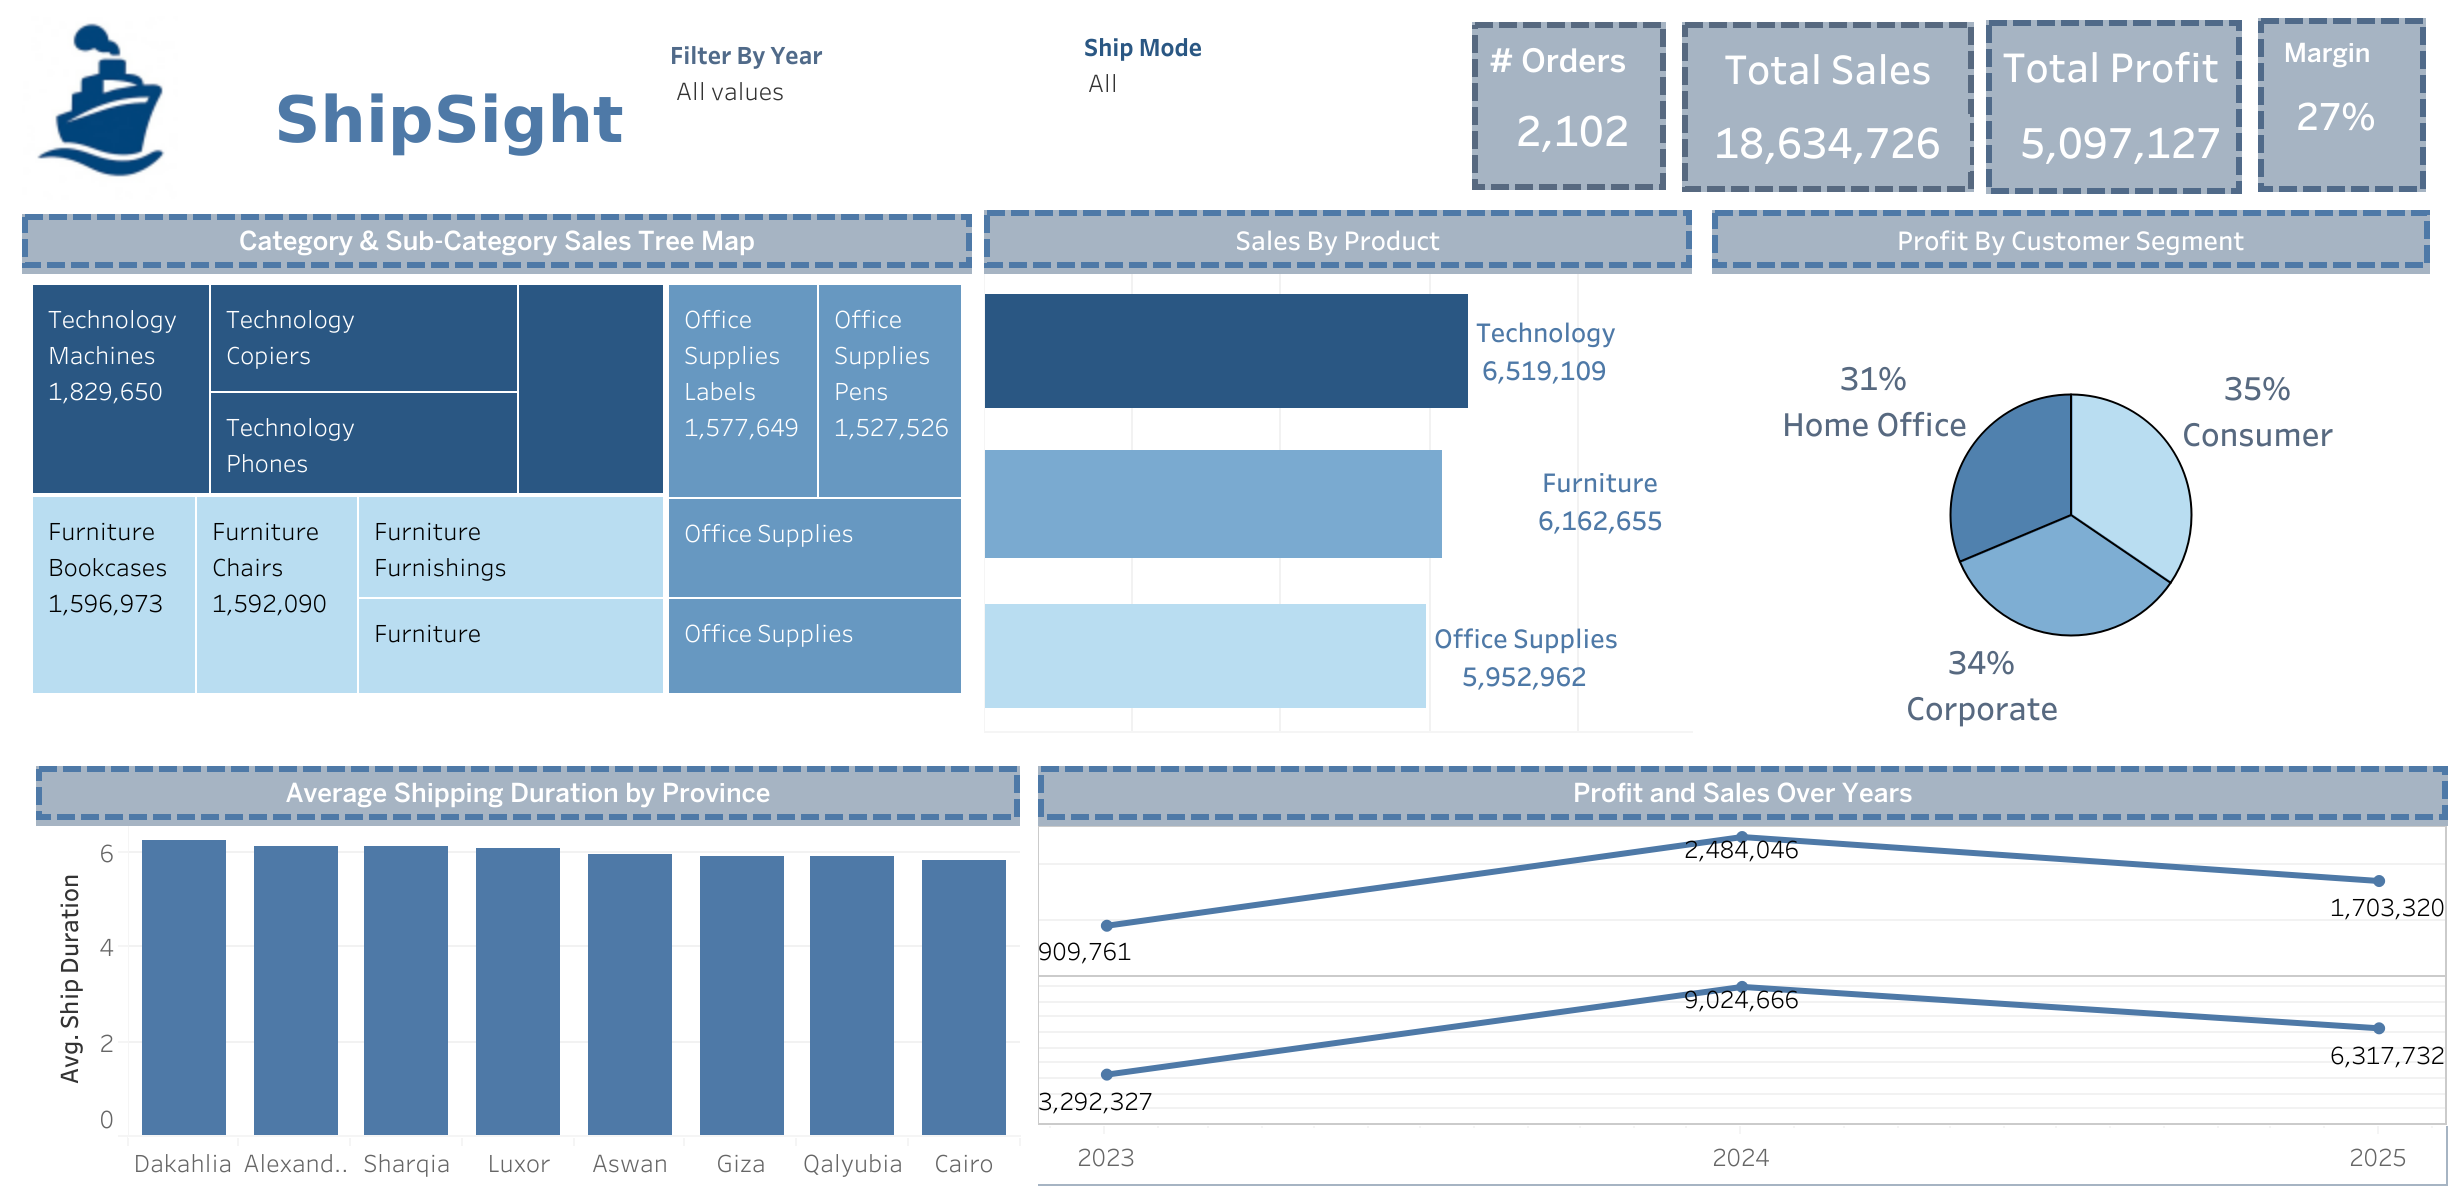

This screenshot's page, from the dashboard's own definition file:
{"tool":"tableau","page":{"name":"Dashboard 1","canvas":[1000,1000],"units":"permille","ordinal":0},"visuals":[{"type":"title","box":[6.4,12,987.2,155.7]},{"type":"image","param":"Image/ChatGPT Image Aug 29, 2025, 05_43_44 AM.jpeg","box":[8.8,13.5,67.8,152.7]},{"type":"worksheet","title":"Sheet 8","mark":"Text","box":[921.9,15,68.6,145.2]},{"type":"worksheet","title":"Sheet 7","mark":"Automatic","box":[811,16.5,104.5,145.2]},{"type":"worksheet","title":"Sheet 9","mark":"Text","box":[600.5,18,79.7,140.7]},{"type":"worksheet","title":"Sheet 6","mark":"Text","box":[686.6,18,118.8,142.2]},{"type":"filter","title":"Sheet 1","param":"[federated.128o93p0urnz4x138856z19qvqug].[none:Ship Mode:nk]","box":[442.6,21,149.9,136.2]},{"type":"filter","title":"Sheet 5","param":"[federated.128o93p0urnz4x138856z19qvqug].[tyr:Order Date:qk]","box":[273.5,28.4,160.3,133.2]},{"type":"worksheet","title":"Sheet 1","mark":"Automatic","rows":["Product Category"],"cols":["Sales"],"box":[401.9,175.2,288.7,434.1]},{"type":"worksheet","title":"Sheet 2","mark":"Pie","box":[698.6,175.2,293.5,455.1]},{"type":"worksheet","title":"Sheet 3","mark":"Automatic","box":[8.8,178.1,387.6,410.2]},{"type":"worksheet","title":"Sheet 4","mark":"Automatic","rows":["Calculation_2524760219817512960"],"cols":["Province"],"box":[14.3,637.7,401.9,345.8]},{"type":"worksheet","title":"Sheet 5","mark":"Automatic","rows":["Profit","Sales"],"cols":["Order Date"],"box":[423.4,637.7,575.8,350.3]}]}

Visuals, with their boxes on the dashboard's canvas, which has no fixed pixel size, in thousandths of its width and height (x1, y1, x2, y2). These are canvas units, not pixel positions in the 2448x1198 screenshot, which may show the page scaled, cropped or inside an application window:
title: <region>6, 12, 994, 168</region>
image: <region>9, 14, 77, 166</region>
"Sheet 8" worksheet (Text marks): <region>922, 15, 990, 160</region>
"Sheet 7" worksheet: <region>811, 16, 916, 162</region>
"Sheet 9" worksheet (Text marks): <region>600, 18, 680, 159</region>
"Sheet 6" worksheet (Text marks): <region>687, 18, 805, 160</region>
"Sheet 1" filter: <region>443, 21, 592, 157</region>
"Sheet 5" filter: <region>274, 28, 434, 162</region>
"Sheet 1" worksheet: <region>402, 175, 691, 609</region>
"Sheet 2" worksheet (Pie marks): <region>699, 175, 992, 630</region>
"Sheet 3" worksheet: <region>9, 178, 396, 588</region>
"Sheet 4" worksheet: <region>14, 638, 416, 984</region>
"Sheet 5" worksheet: <region>423, 638, 999, 988</region>
